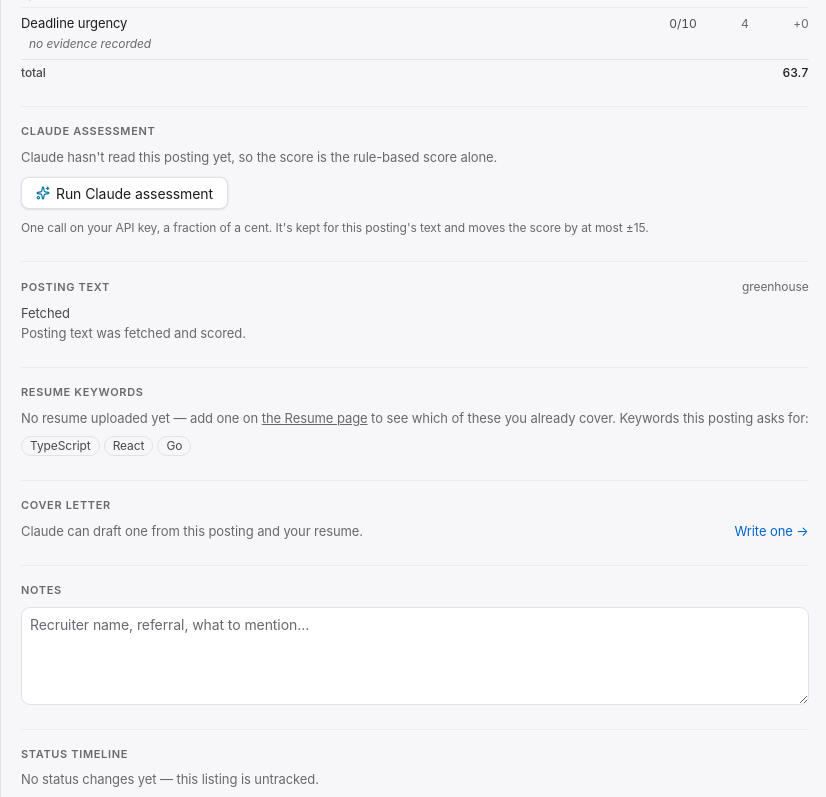
it: notes › keeps the text and offers a retry when the save fails
(page scrolled)
Type "do not lose me" into the text box named "Listing notes" at (415, 656), box [21,606,809,704]
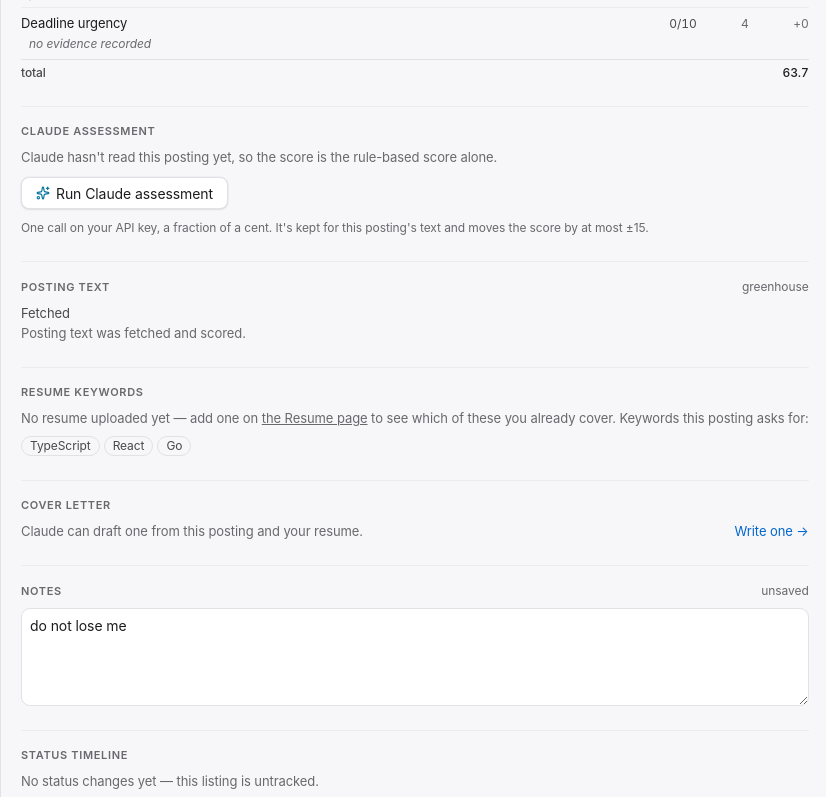
Leave the text box named "Listing notes", box [21,608,809,706]
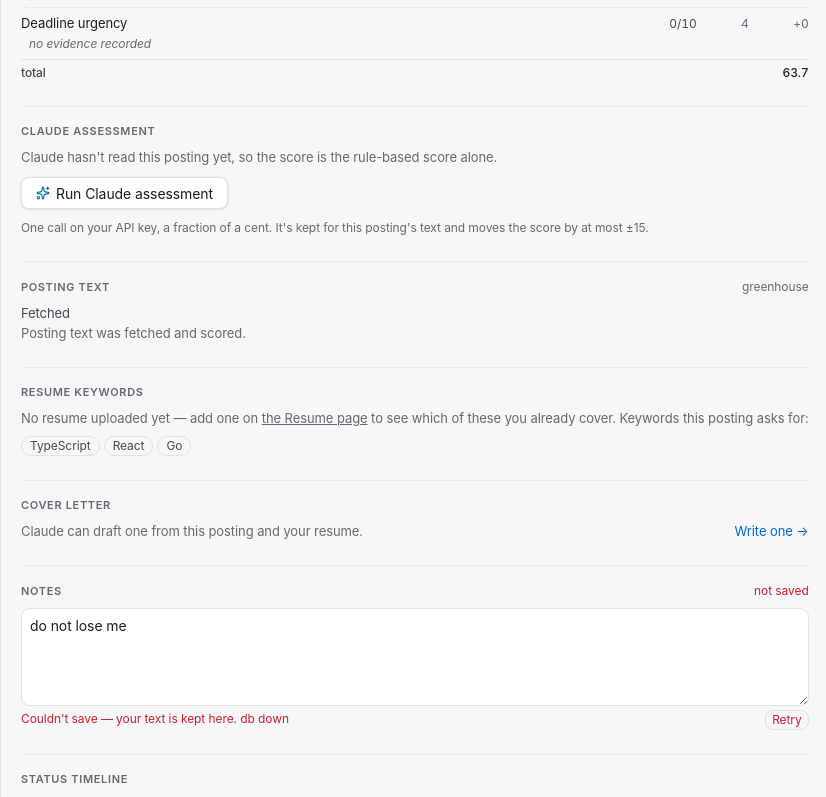
Check: the message "Couldn't save — your text is kept here. db down Retry" is shown, box [21,710,809,730]
Check: the button "Retry" is shown, box [765,710,809,730]
